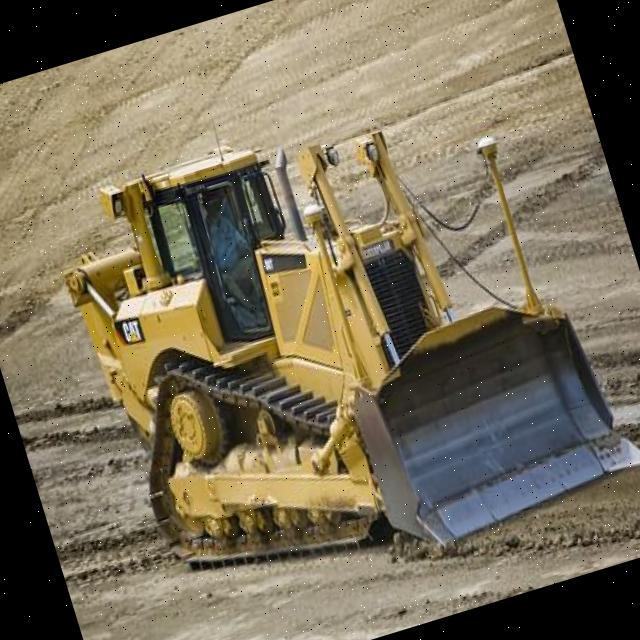Bulldozer: (18, 31, 640, 640)
